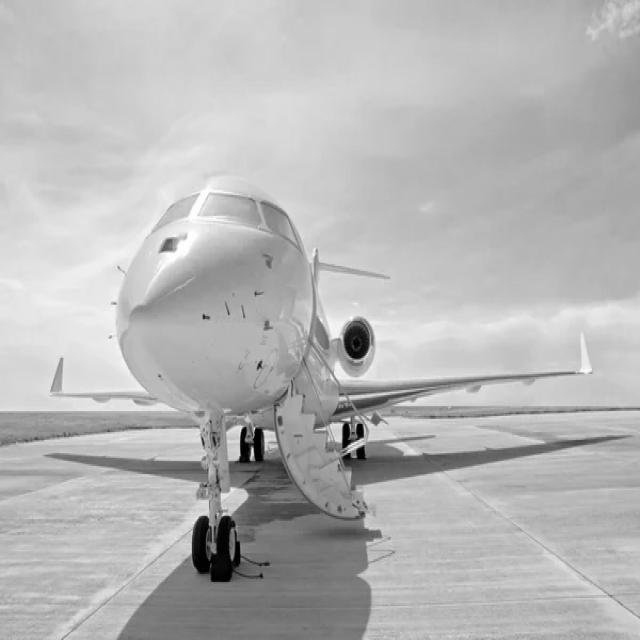Aircraft: (44, 176, 592, 573)
